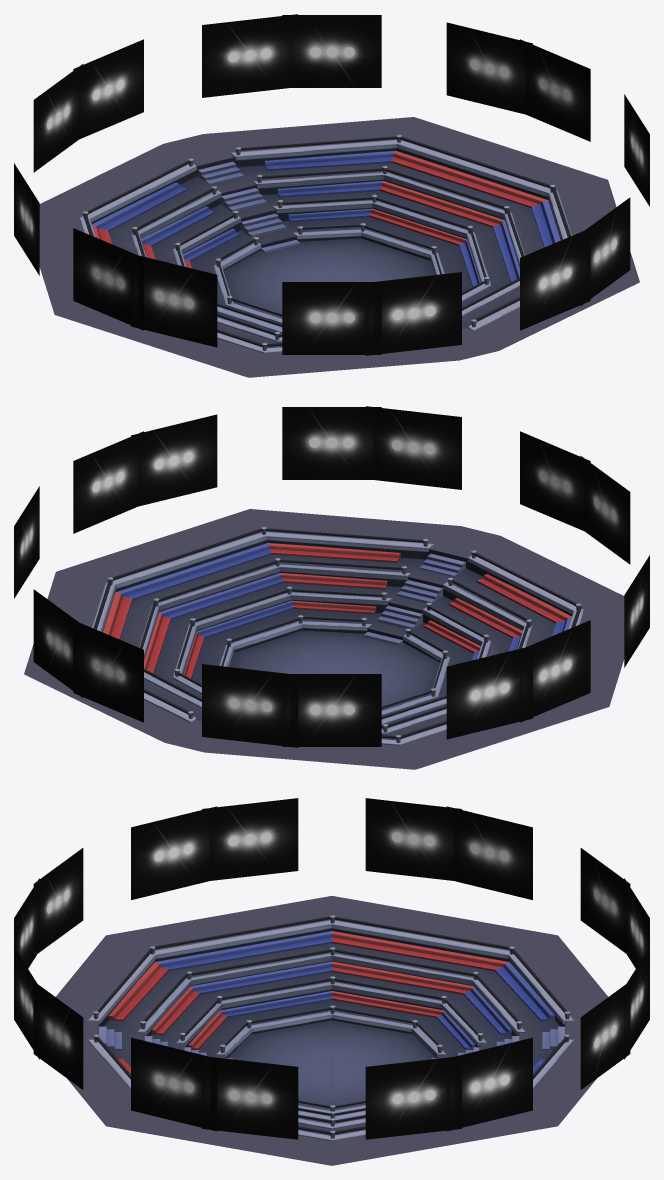
Rendered from SM_Spotlights.fbx.
3 renders of one model, top to bottom at view 1: azimuth 30°, elevation 25°; view 2: azimuth 150°, elevation 25°; view 3: azimuth 270°, elevation 25°, orthographic.
Visible parts, largest first — view 1: SM_Bleachers, Lights18, SM_Benches, Lights4, Lights14, Lights5, Lights7, Lights13, Lights3, Lights6, Lights2, Lights12 (+5 smaller); view 2: SM_Bleachers, Lights18, SM_Benches, Lights9, Lights8, Lights2, Lights15, Lights17, Lights11, Lights3, Lights5, Lights14 (+3 smaller); view 3: SM_Bleachers, Lights18, SM_Benches, Lights16, Lights12, Lights13, Lights11, Lights7, Lights6, Lights10, Lights2, Lights14 (+3 smaller).
Boxes of the visible parts, left/top/right/bottom form: SM_Bleachers: left=39, top=117, right=639, bottom=377; Lights18: left=33, top=14, right=649, bottom=342; SM_Benches: left=92, top=150, right=560, bottom=321; Lights4: left=282, top=282, right=381, bottom=354; Lights14: left=282, top=15, right=381, bottom=87; Lights5: left=365, top=272, right=461, bottom=355; Lights7: left=131, top=253, right=217, bottom=347; Lights13: left=446, top=23, right=532, bottom=114; Lights3: left=520, top=228, right=590, bottom=330; Lights6: left=73, top=228, right=143, bottom=330; Lights2: left=580, top=197, right=630, bottom=305; Lights12: left=526, top=63, right=590, bottom=141; SM_Bleachers: left=24, top=509, right=624, bottom=769; Lights18: left=14, top=406, right=630, bottom=739; SM_Benches: left=103, top=543, right=571, bottom=678; Lights9: left=282, top=674, right=381, bottom=746; Lights8: left=202, top=664, right=298, bottom=747; Lights2: left=282, top=407, right=381, bottom=479; Lights15: left=73, top=620, right=143, bottom=722; Lights17: left=131, top=418, right=217, bottom=506; Lights11: left=520, top=620, right=590, bottom=722; Lights3: left=373, top=409, right=461, bottom=488; Lights5: left=520, top=431, right=589, bottom=527; Lights14: left=33, top=589, right=83, bottom=697; SM_Bleachers: left=56, top=896, right=607, bottom=1165; Lights18: left=14, top=798, right=649, bottom=1138; SM_Benches: left=108, top=931, right=554, bottom=1074; Lights16: left=202, top=1056, right=298, bottom=1139; Lights12: left=365, top=1056, right=461, bottom=1139; Lights13: left=446, top=1037, right=532, bottom=1131; Lights11: left=365, top=798, right=453, bottom=879; Lights7: left=131, top=806, right=217, bottom=900; Lights6: left=210, top=798, right=298, bottom=879; Lights10: left=446, top=806, right=532, bottom=900; Lights2: left=33, top=981, right=83, bottom=1089; Lights14: left=580, top=981, right=630, bottom=1089.
Bounding box in the file's own units: 13417 × 3177 × 13352.
Materials: 2 (2 with a texture image).
